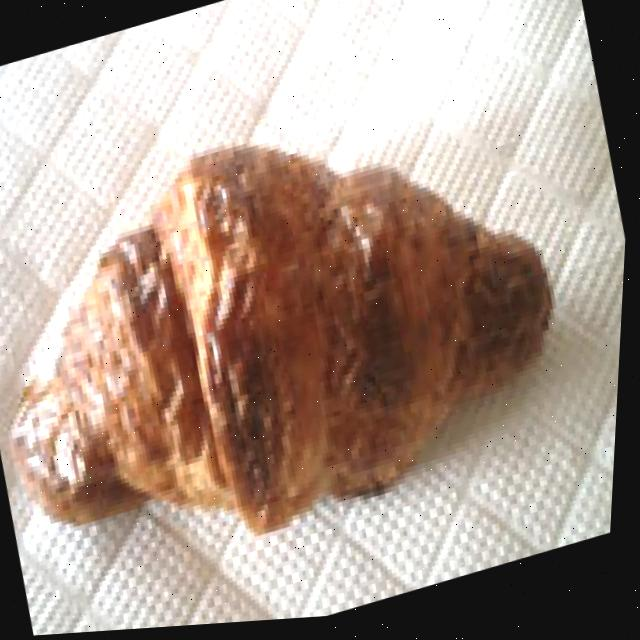面包点心: (0, 47, 603, 615)
